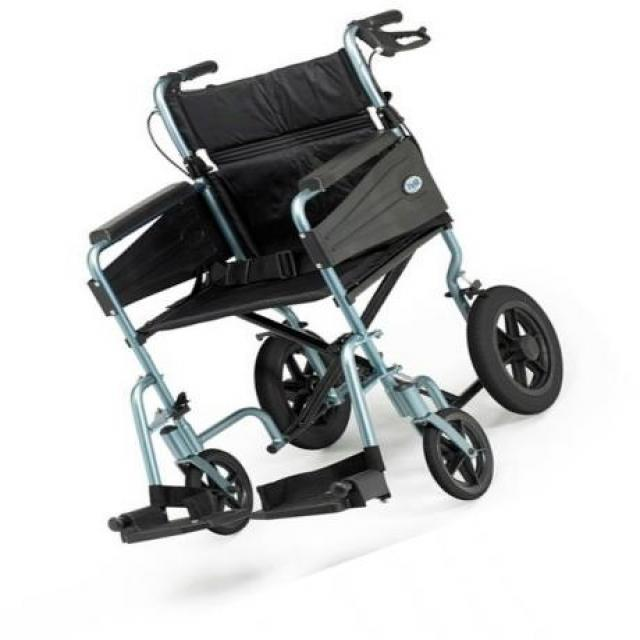wheelchair: (64, 0, 575, 559)
